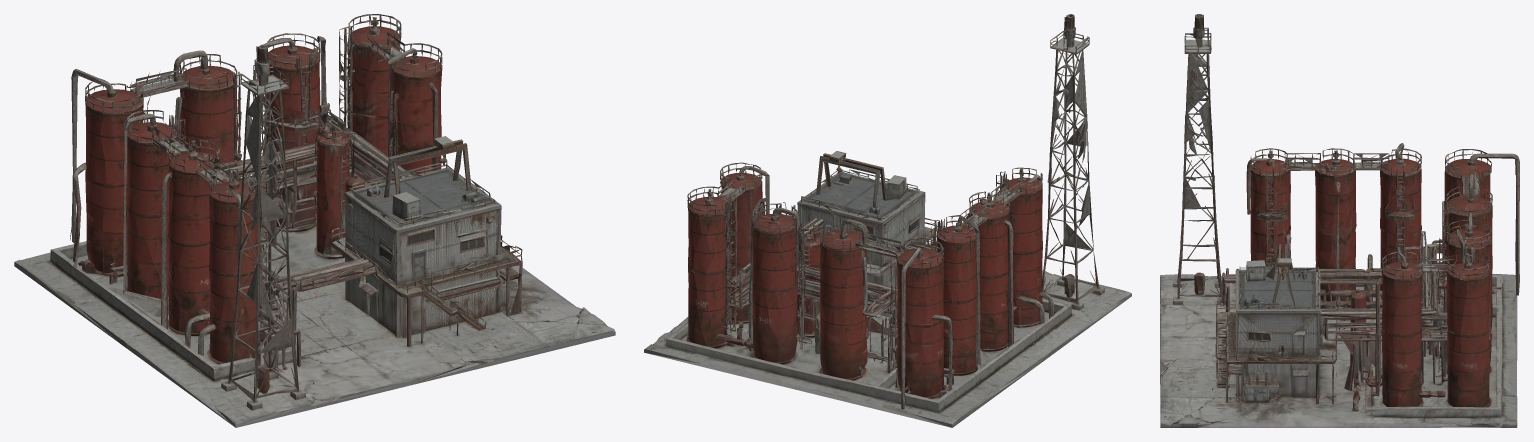
The model's file is malastareworks.glb.
3 renders of one model, left to right at view 1: azimuth 30°, elevation 25°; view 2: azimuth 150°, elevation 25°; view 3: azimuth 270°, elevation 25°, orthographic. The views are drawn at different scales.
Visible parts, largest first — view 1: malastareworks-centred; view 2: malastareworks-centred; view 3: malastareworks-centred.
Boxes of the visible parts, x1,y1,x2,y2 form: malastareworks-centred: [14, 14, 615, 427]; malastareworks-centred: [644, 14, 1131, 427]; malastareworks-centred: [1160, 14, 1519, 427].
Bounding box in the file's own units: 59.06 × 52.23 × 60.
1 material, 1 textured.
